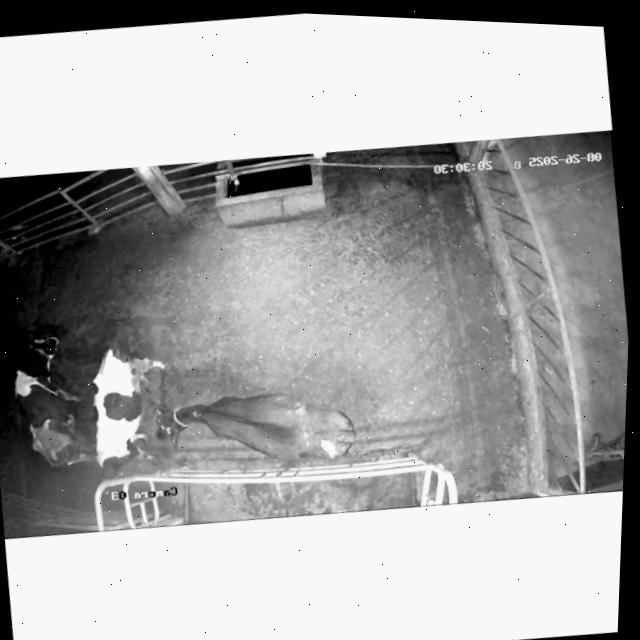stand: (158, 393, 356, 461), (14, 336, 93, 466), (93, 348, 165, 476)
